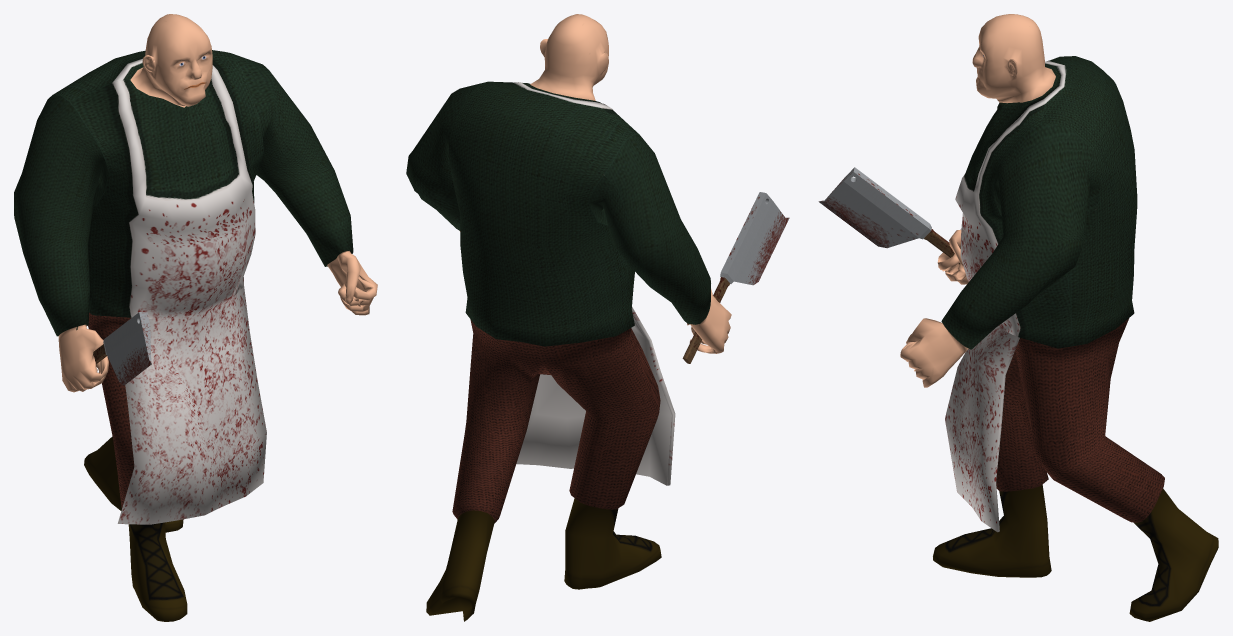
File: butcher_noRig.fbx
The picture shows the model from 3 angles, left to right: view 1: azimuth 30°, elevation 25°; view 2: azimuth 150°, elevation 25°; view 3: azimuth 270°, elevation 25°; orthographic projection. The views are drawn at different scales.
Visible parts, largest first — view 1: Object_13, Object_71; view 2: Object_13, Object_71; view 3: Object_13, Object_71.
Part boxes in pixels (x1,y1,x2,y2): Object_13: [14, 14, 377, 621]; Object_71: [93, 312, 151, 385]; Object_13: [406, 14, 731, 621]; Object_71: [682, 192, 789, 363]; Object_13: [900, 14, 1218, 621]; Object_71: [818, 167, 960, 264].
Bounding box in the file's own units: 98.46 × 184 × 117.
